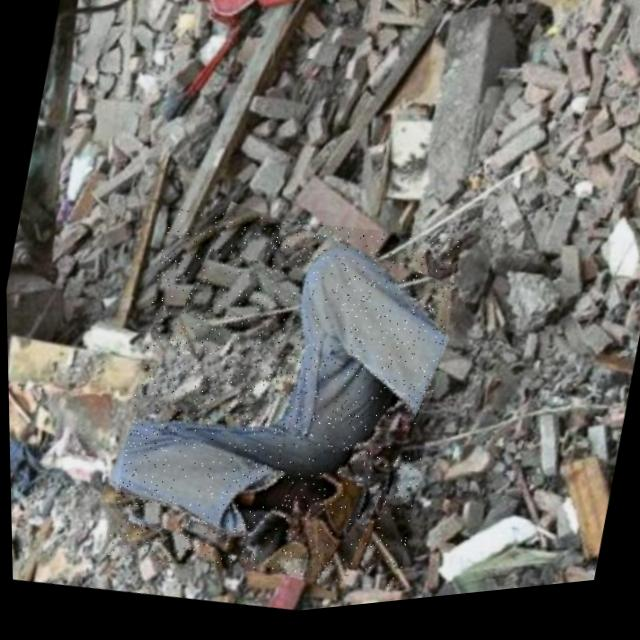Person in Rubble: (96, 187, 467, 618)
